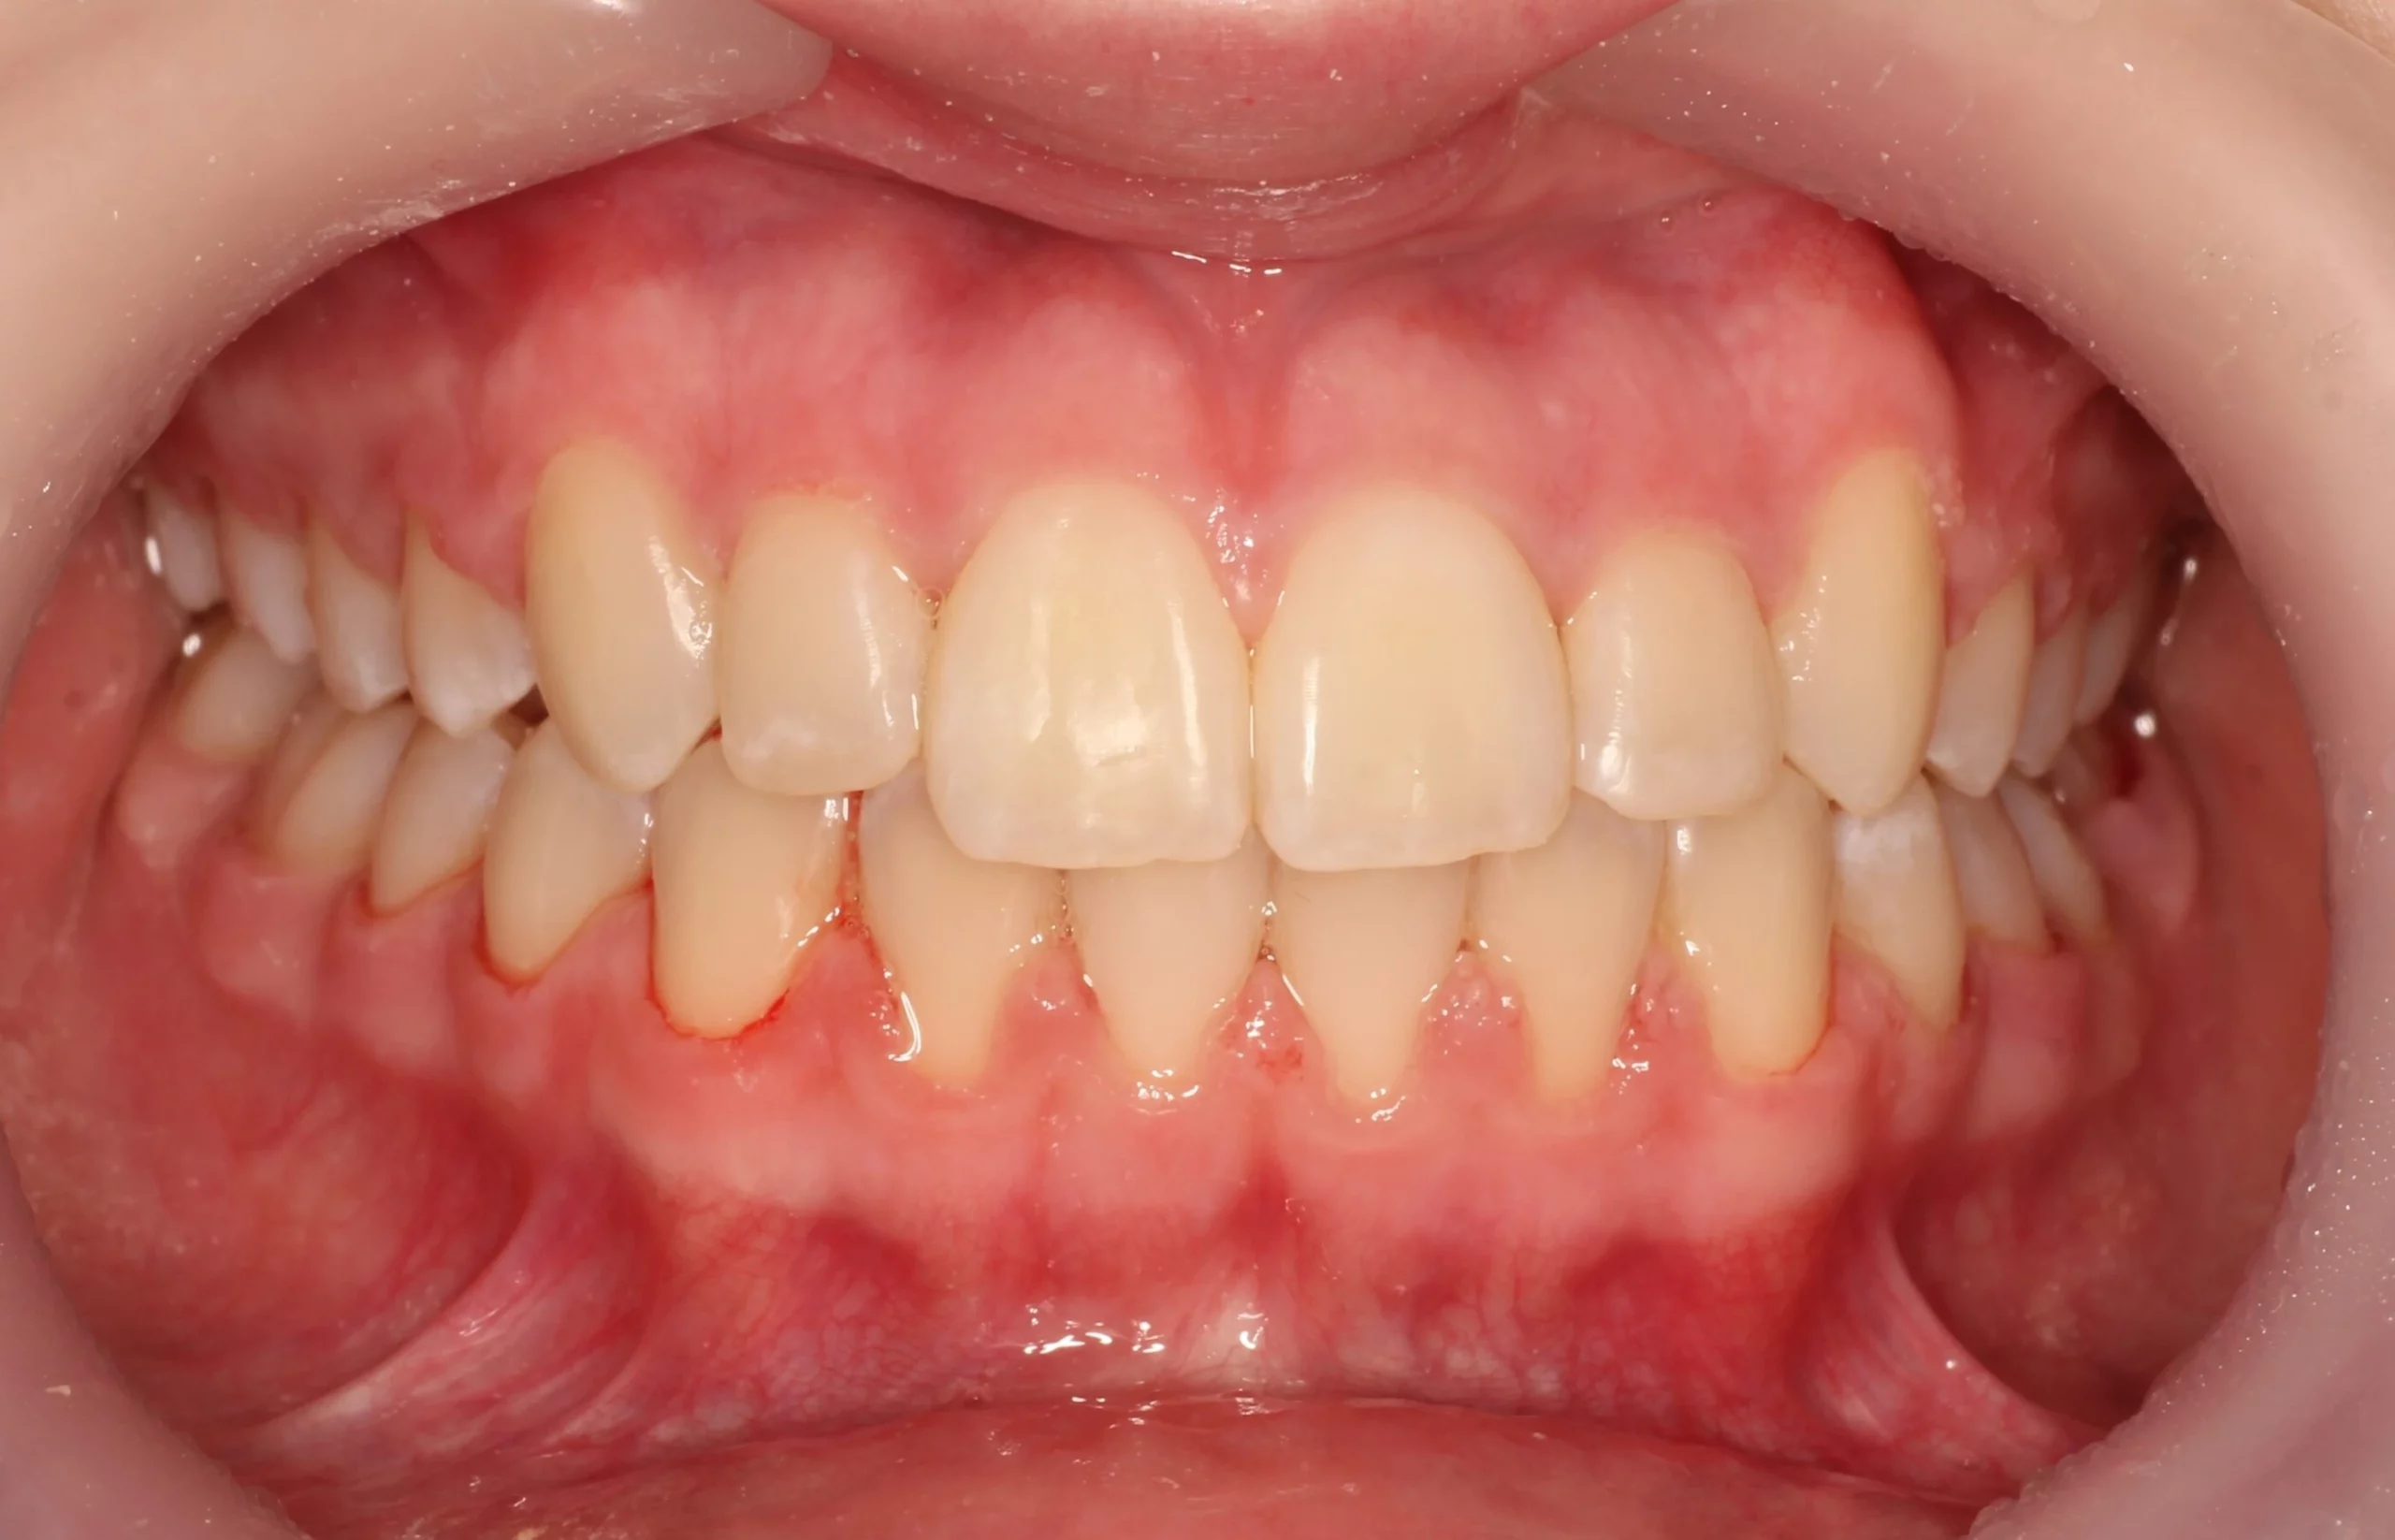LL1BC_healthy: (1828, 814, 1964, 1023)
LL1M_healthy: (2021, 801, 2105, 941)
LL2BC_healthy: (1959, 803, 2041, 955)
LLCI_healthy: (1273, 871, 1468, 1084)
LLC_healthy: (1665, 817, 1829, 1070)
LLLI_healthy: (1473, 852, 1660, 1086)
LR1BC_healthy: (487, 786, 642, 990)
LR1M_healthy: (255, 714, 374, 877)
LR2BC_healthy: (372, 740, 492, 920)
LR2M_healthy: (175, 650, 286, 758)
LRCI_healthy: (1072, 870, 1264, 1074)
LRC_healthy: (653, 793, 841, 1032)
LRLI_healthy: (855, 868, 1068, 1074)
UL1BC_healthy: (1941, 571, 2030, 800)
UL1M_healthy: (2083, 562, 2137, 730)
UL2BC_healthy: (2025, 608, 2077, 779)
ULCI_healthy: (1255, 489, 1568, 868)
ULC_healthy: (1788, 461, 1938, 810)
ULLI_healthy: (1568, 533, 1788, 819)
UR1BC_healthy: (398, 526, 529, 735)
UR1M_healthy: (220, 491, 311, 658)
UR2BC_healthy: (314, 519, 405, 712)
UR2M_healthy: (157, 484, 216, 608)
URCI_healthy: (929, 487, 1250, 868)
URC_healthy: (524, 443, 724, 787)
URLI_healthy: (724, 499, 925, 794)
